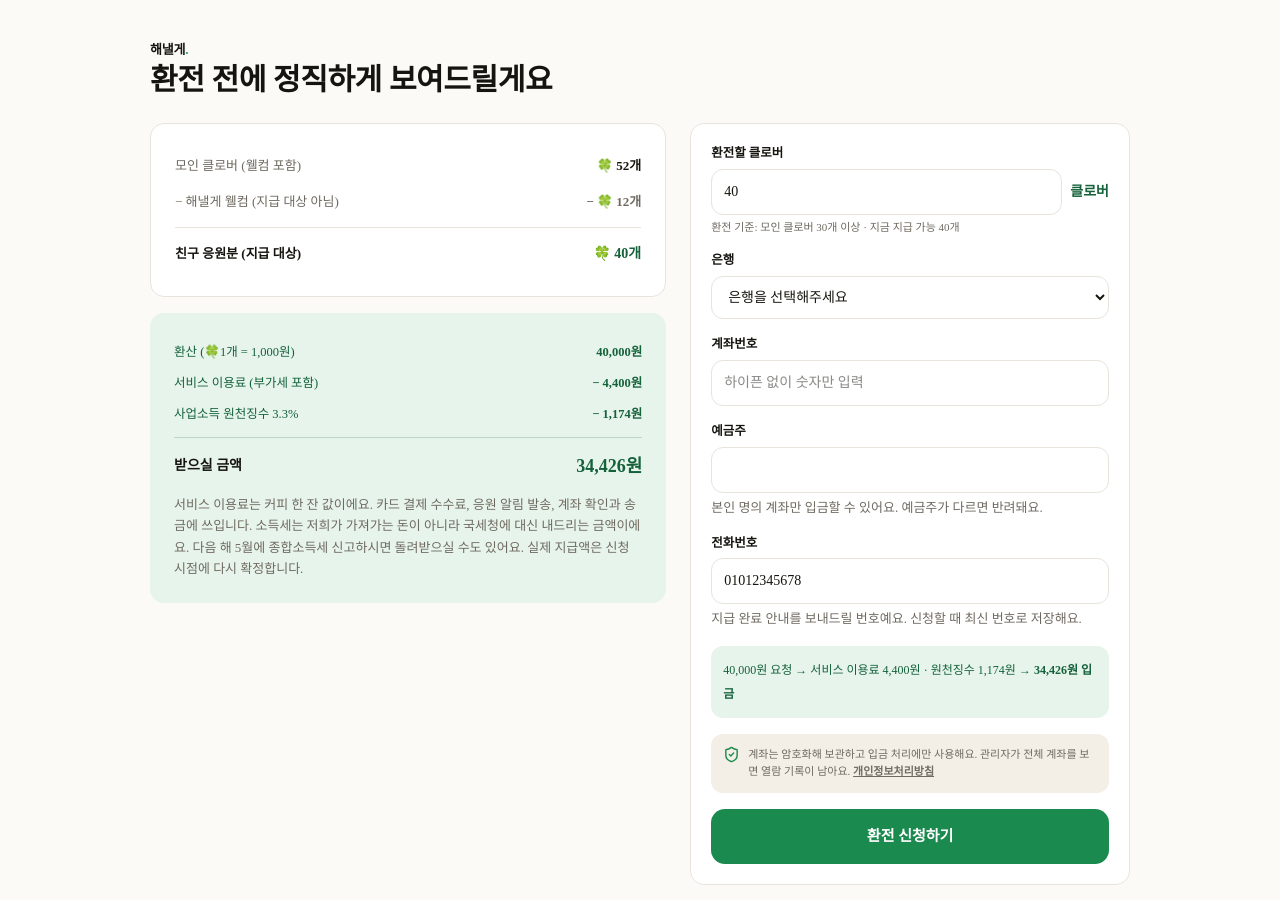
CashoutRequestForm › TC-V37-01 거절 경로: 필수 입력 오류면 전용 확인 화면으로 전환하지 않는다
Click the button with test id "cashout-confirm-button" at [910, 837], box [711, 809, 1109, 864]
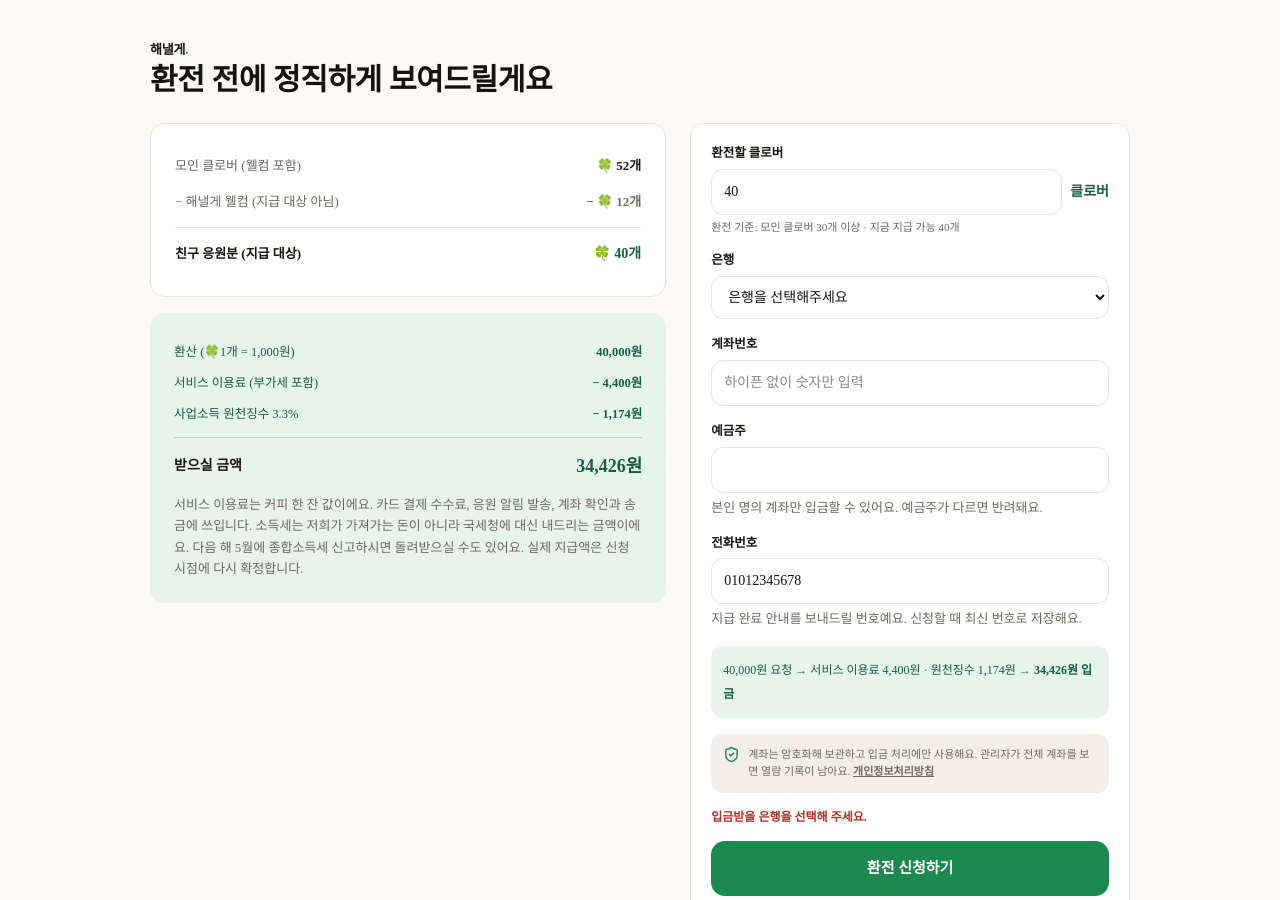
Expected: the element with test id "cashout-form-breakdown" is shown, [150, 123, 666, 619]
Expected: the message reads "입금받을 은행을 선택해 주세요.", [711, 810, 867, 824]
